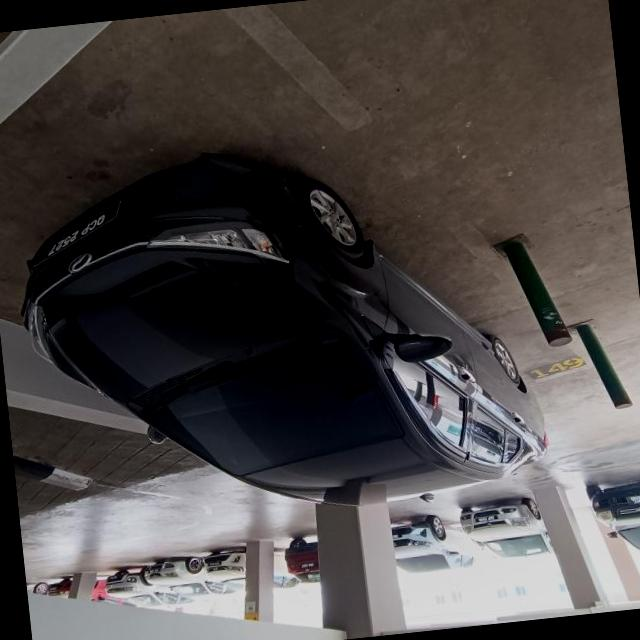PeroduaBezza: (5, 119, 554, 542)
